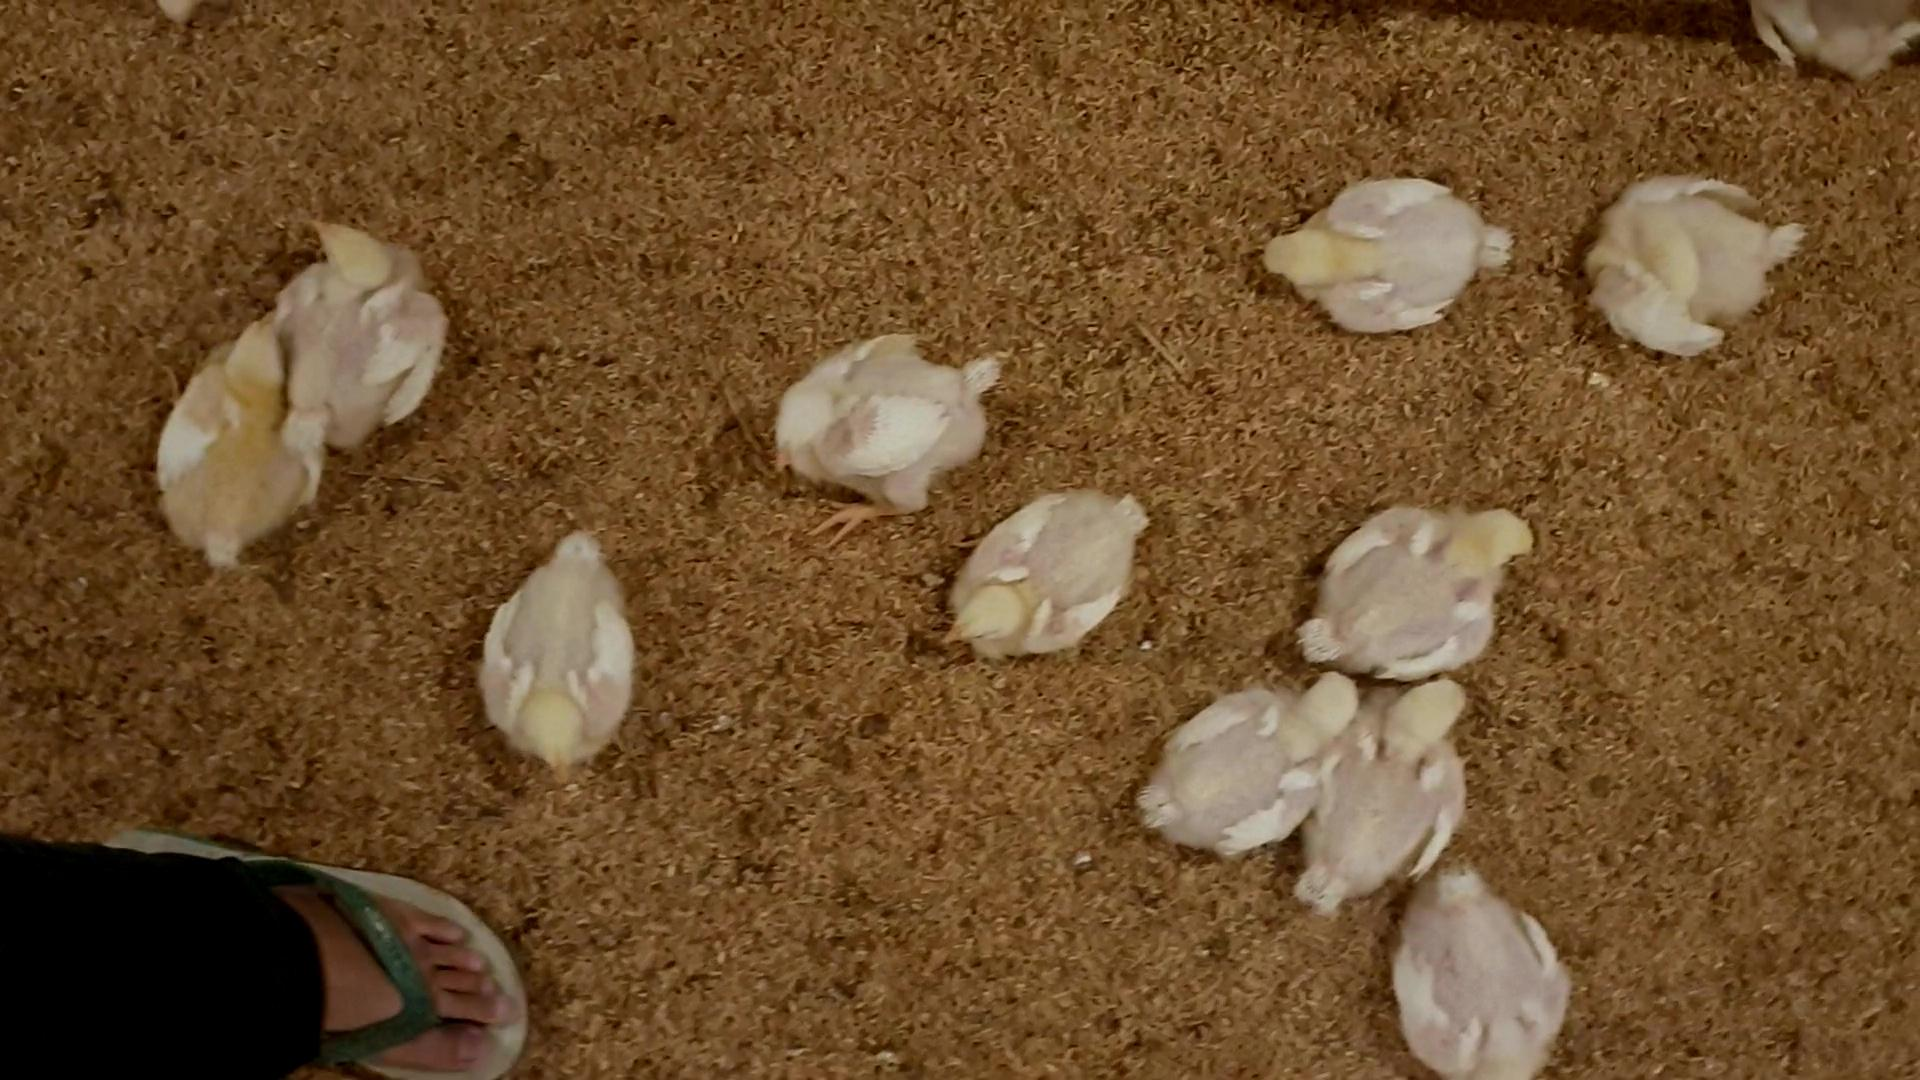Pollos: (1379, 855, 1573, 1073), (1135, 665, 1360, 847), (487, 529, 655, 756), (1265, 174, 1506, 332), (764, 330, 993, 496), (1578, 179, 1800, 349), (1288, 516, 1531, 665), (947, 479, 1151, 647), (282, 216, 444, 418), (169, 316, 307, 551), (1311, 666, 1449, 839)
